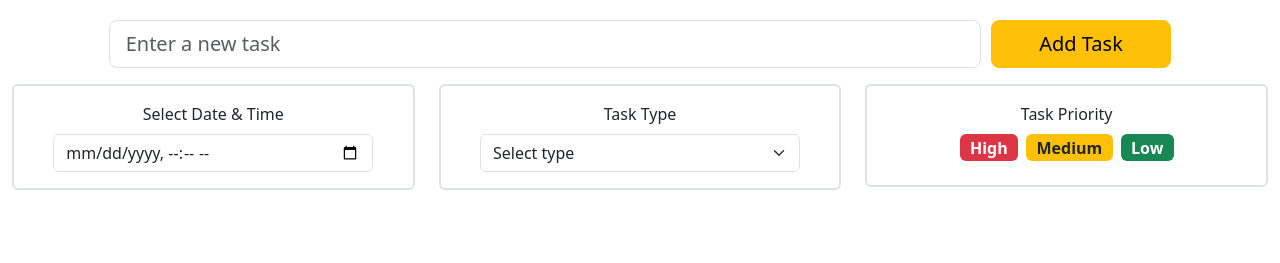
it: AddTask Component › should validate for empty input box
Click the button "Add Task": click(1081, 44) x1=991 y1=20 x2=1171 y2=68
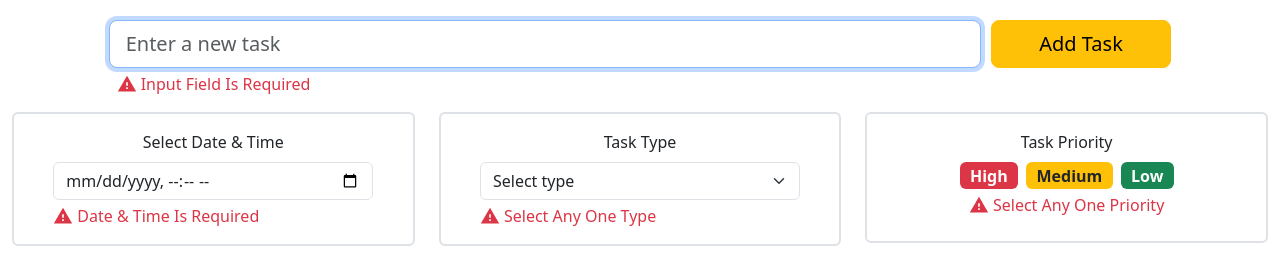
Check: the text "Input Field Is Required" is shown, box x1=117 y1=73 x2=310 y2=95
Check: the text "Date & Time Is Required" is shown, box x1=53 y1=205 x2=259 y2=227
Check: the text "Select Any One Type" is shown, box x1=480 y1=205 x2=656 y2=227
